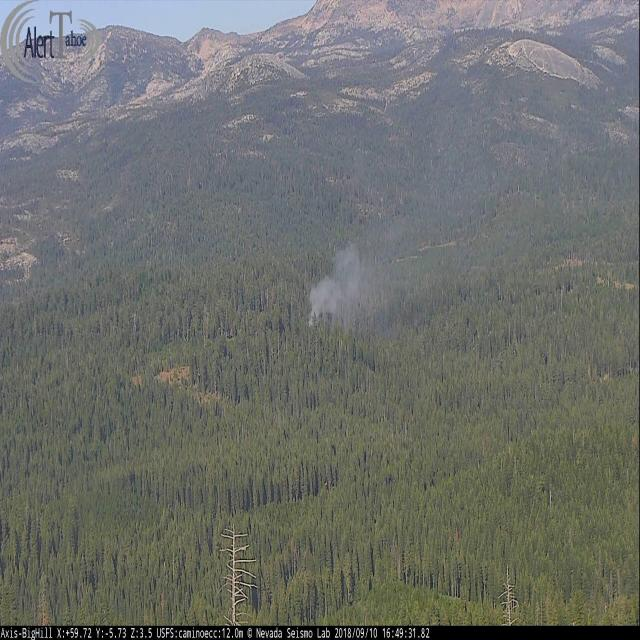smoke: (305, 59, 531, 324)
